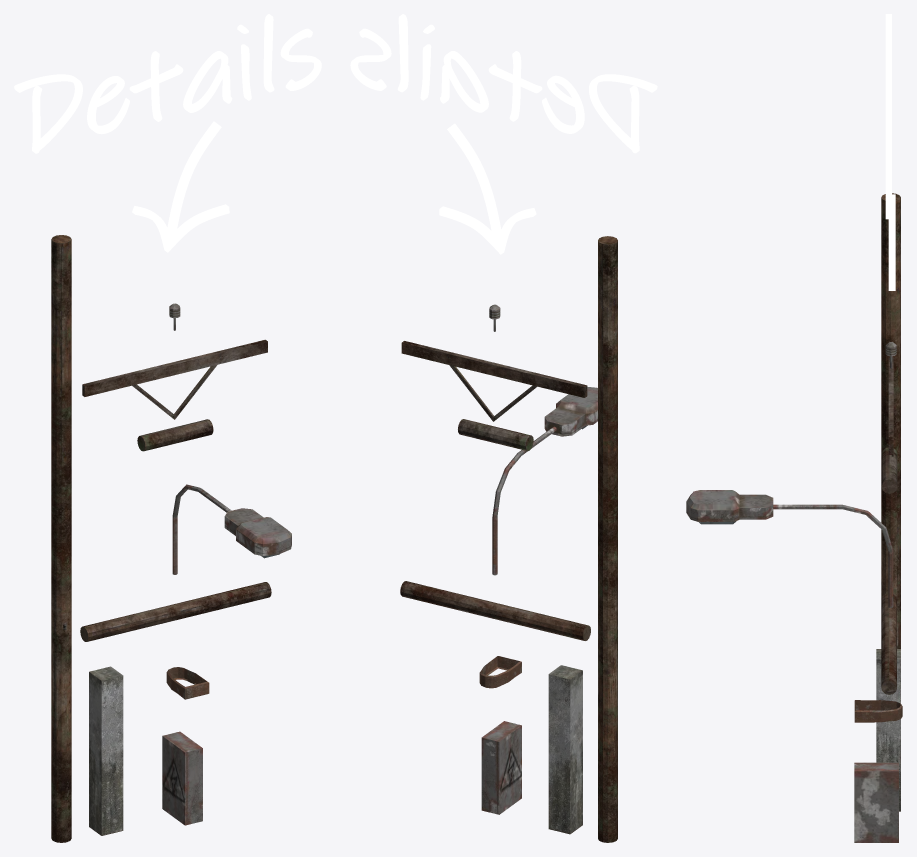
The model's file is lampOld_06.glb.
The picture shows the model from 3 angles, left to right: view 1: azimuth 30°, elevation 25°; view 2: azimuth 150°, elevation 25°; view 3: azimuth 270°, elevation 25°; orthographic projection.
Visible parts, largest first — view 1: geometry_1, geometry_0; view 2: geometry_1, geometry_0; view 3: geometry_1, geometry_0.
Boxes of the visible parts, x1,y1,x2,y2 form: geometry_1: (51,235,291,842); geometry_0: (14,14,321,252); geometry_1: (400,236,617,842); geometry_0: (350,14,657,254); geometry_1: (686,193,902,842); geometry_0: (885,14,895,290).
Size of the model in its own units: 3.49 by 8.47 by 2.19.
2 materials, 1 textured.
